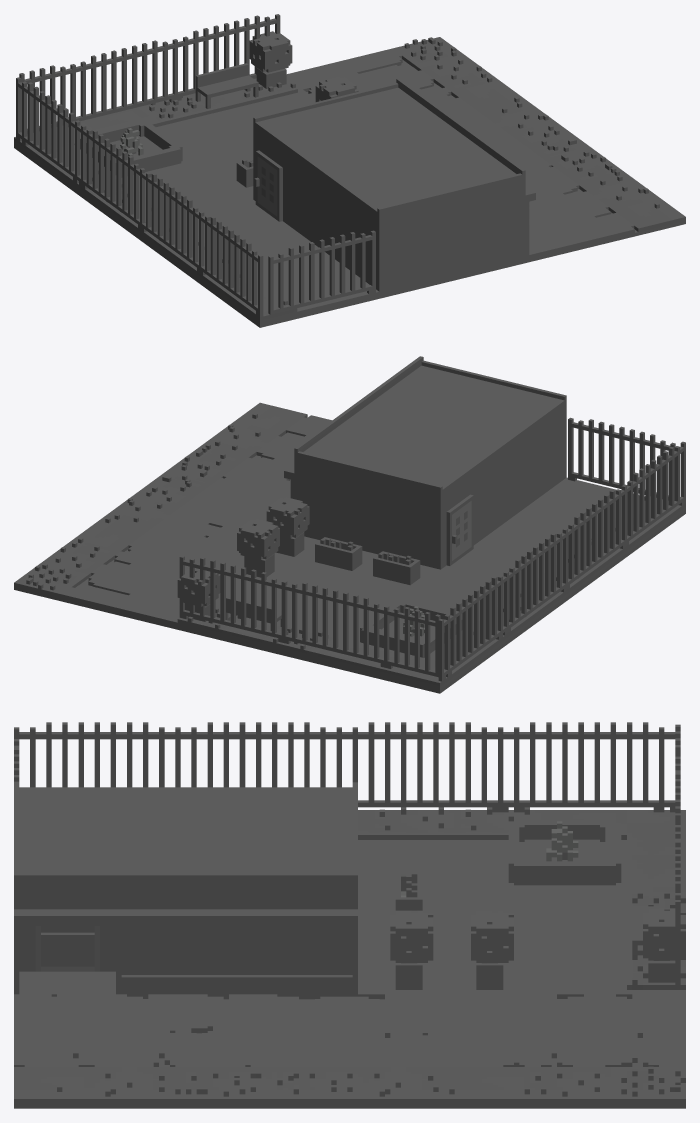
The model's file is kfarr_bases_valencia_store-5-lot.obj.
The picture shows the model from 3 angles, top to bottom: view 1: azimuth 30°, elevation 25°; view 2: azimuth 150°, elevation 25°; view 3: azimuth 270°, elevation 25°; orthographic projection. The views are drawn at different scales.
Bounding box in the file's own units: 125 × 26 × 125.
